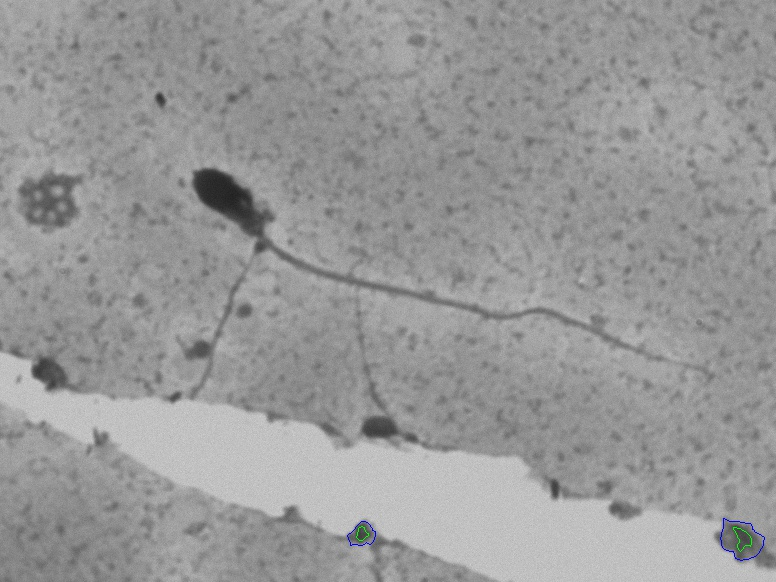Abnormal: (180, 128, 710, 413)
